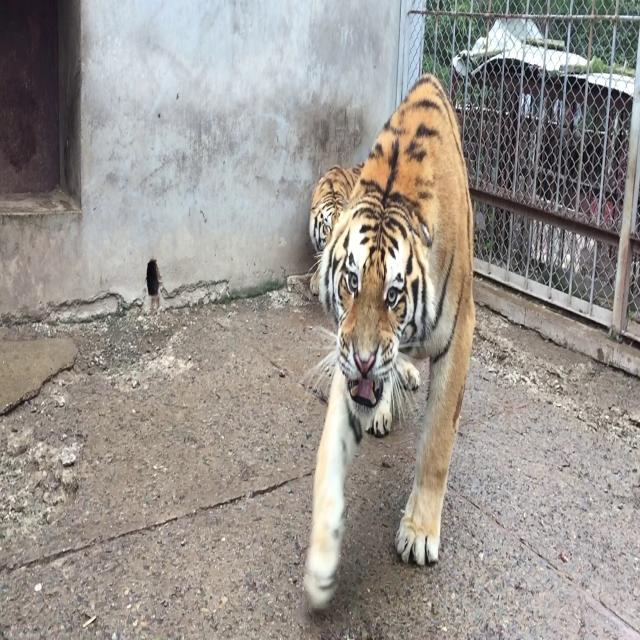Tiger: (246, 31, 511, 639), (283, 114, 376, 310)
